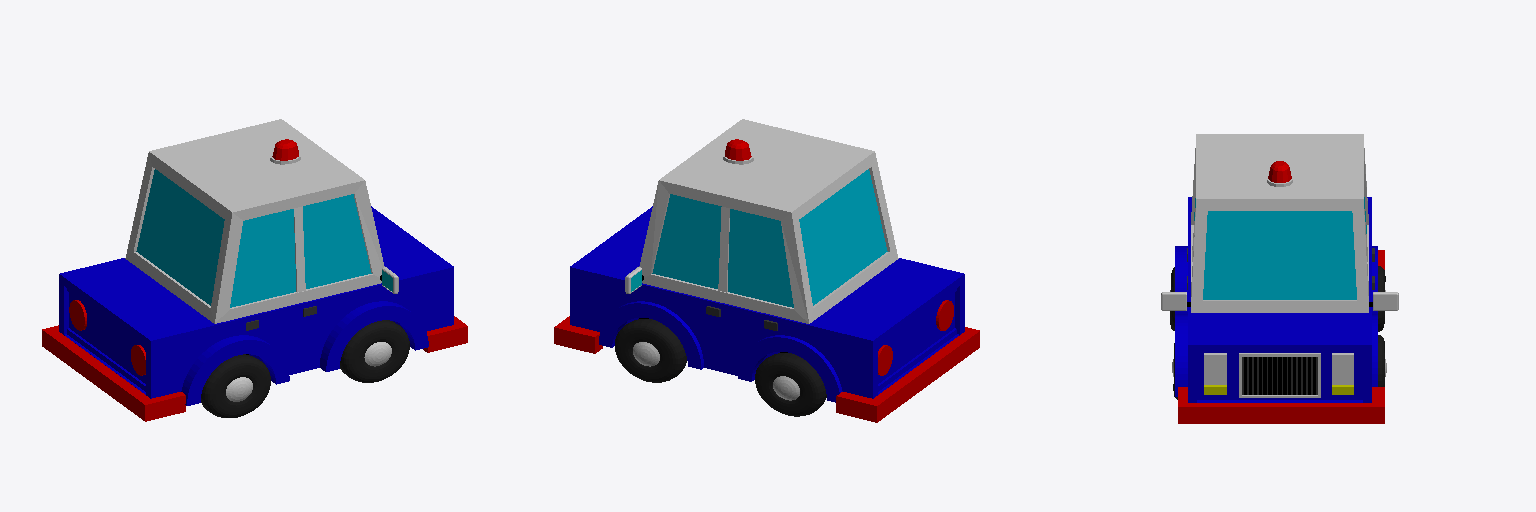
File: policecar.obj
3 views of the same model, side by side, from view 1: azimuth 30°, elevation 25°; view 2: azimuth 150°, elevation 25°; view 3: azimuth 270°, elevation 25° (orthographic).
Visible parts, largest first — view 1: police; view 2: police; view 3: police.
Boxes of the visible parts, x1,y1,x2,y2 form: police: [42, 119, 467, 421]; police: [554, 119, 979, 422]; police: [1161, 134, 1398, 423].
Bounding box in the file's own units: 2.15 × 1.36 × 1.37.